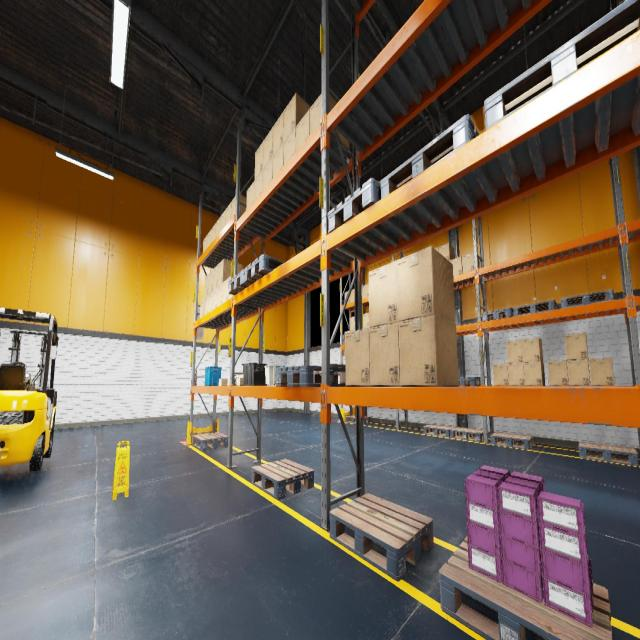box: (397, 246, 455, 322), (398, 314, 458, 386), (310, 93, 349, 151), (368, 260, 398, 328), (369, 322, 400, 386), (345, 328, 370, 386), (284, 92, 310, 142), (589, 358, 614, 385), (218, 259, 242, 286), (565, 332, 588, 360), (567, 359, 590, 385), (296, 109, 310, 151), (272, 110, 284, 156), (547, 360, 569, 385), (283, 127, 296, 166), (522, 338, 543, 362), (524, 362, 545, 385), (272, 143, 284, 179), (263, 126, 273, 169), (254, 141, 264, 180), (508, 363, 525, 385), (506, 340, 523, 362), (462, 252, 479, 273), (492, 363, 508, 385), (231, 195, 246, 218), (263, 157, 272, 190), (438, 243, 455, 260), (228, 276, 240, 299), (254, 170, 263, 200), (450, 256, 462, 276), (246, 181, 254, 209), (222, 278, 228, 303), (208, 269, 214, 294), (225, 202, 231, 224), (213, 264, 218, 290), (204, 273, 209, 298), (217, 283, 222, 306), (212, 287, 217, 310), (220, 209, 225, 231), (215, 217, 220, 238), (228, 377, 240, 385), (363, 312, 369, 327), (362, 284, 368, 298), (211, 223, 215, 243), (208, 292, 212, 312), (204, 295, 208, 315), (200, 298, 204, 318), (207, 229, 211, 248), (202, 235, 206, 253), (345, 331, 350, 344), (350, 317, 355, 330), (345, 291, 350, 303), (350, 289, 354, 302), (219, 379, 227, 385), (234, 372, 243, 377), (237, 378, 243, 385), (435, 247, 438, 251), (227, 378, 228, 385), (362, 286, 362, 298)
forklift: (0, 307, 59, 471)
pallets: (484, 0, 640, 130), (439, 536, 612, 640), (329, 494, 434, 580), (380, 114, 479, 198), (328, 178, 380, 233), (251, 459, 314, 499), (578, 441, 639, 466), (276, 365, 345, 386), (244, 254, 284, 284), (561, 289, 614, 308), (490, 432, 534, 450), (512, 300, 558, 316), (228, 270, 258, 294), (192, 432, 228, 450), (450, 427, 484, 442), (423, 424, 457, 438), (482, 308, 513, 321), (458, 377, 481, 385), (345, 416, 370, 423)
